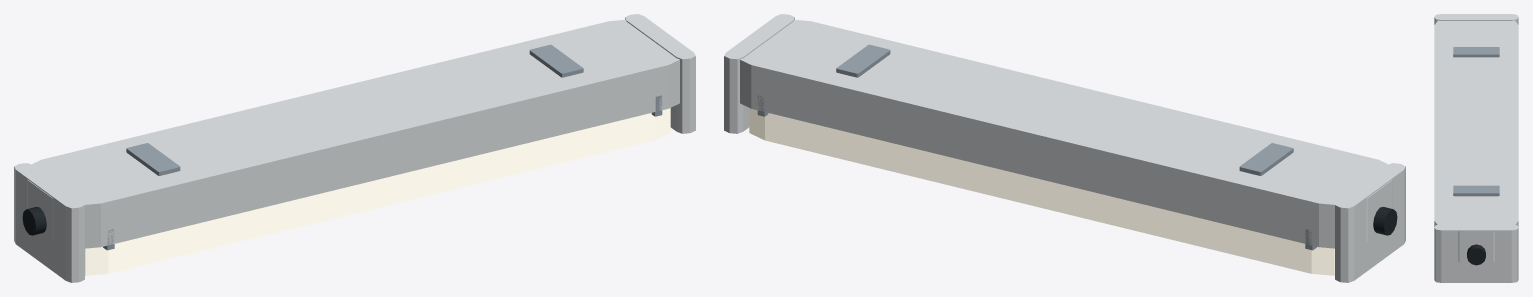
The model's file is source.glb.
The picture shows the model from 3 angles, left to right: view 1: azimuth 30°, elevation 25°; view 2: azimuth 150°, elevation 25°; view 3: azimuth 270°, elevation 25°; orthographic projection. The views are drawn at different scales.
Visible parts, largest first — view 1: 粉末涂层铝壳, Emitters, 机加工金属, 密封及绝缘件; view 2: 粉末涂层铝壳, Emitters, 机加工金属, 密封及绝缘件; view 3: 粉末涂层铝壳, 机加工金属, 密封及绝缘件.
Part boxes in pixels (<box>): 粉末涂层铝壳: <box>14,14,695,282</box>; Emitters: <box>85,108,670,275</box>; 机加工金属: <box>103,44,662,250</box>; 密封及绝缘件: <box>22,207,46,235</box>; 粉末涂层铝壳: <box>724,14,1405,282</box>; Emitters: <box>749,108,1334,275</box>; 机加工金属: <box>757,44,1316,250</box>; 密封及绝缘件: <box>1373,207,1397,235</box>; 粉末涂层铝壳: <box>1434,14,1518,282</box>; 机加工金属: <box>1453,47,1499,196</box>; 密封及绝缘件: <box>1467,244,1485,265</box>.
Bounding box in the file's own units: 0.6412 × 0.0747 × 0.102.
